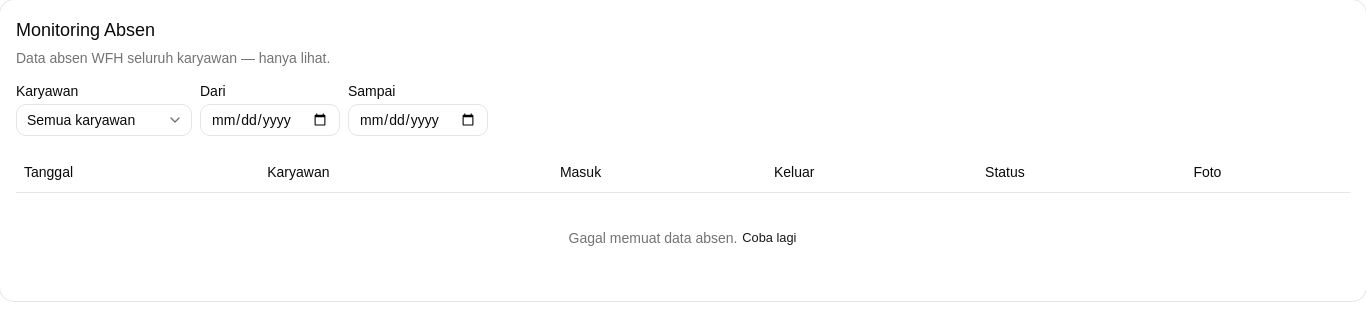
Test case: MonitoringPage › shows the error state and refetches when Coba lagi is clicked
The image size is (1366, 319).
Expected: the text "Gagal memuat data absen." is shown, [569,229,738,245]
Step 1. Click the button "Coba lagi" → [769, 238], box [741,224,797,252]
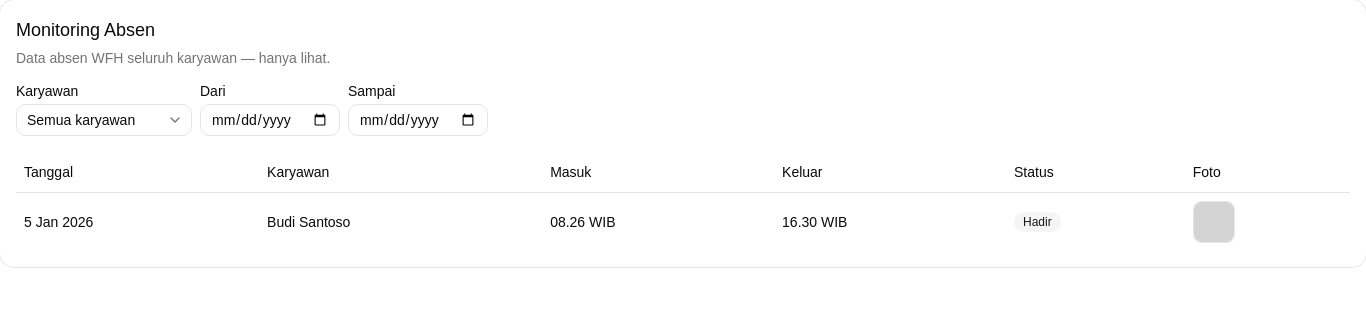
Expected: the text "Budi Santoso" is shown, [259,192,542,250]
